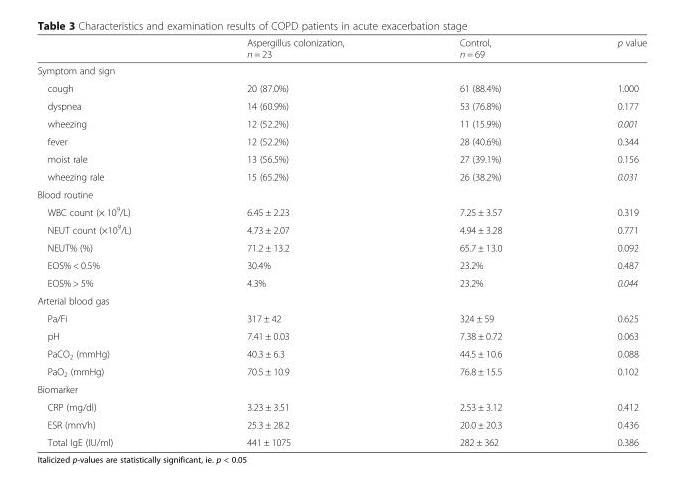table: (36, 36, 646, 447)
table column: (188, 36, 401, 447), (401, 36, 558, 447), (36, 36, 188, 447), (558, 36, 646, 447)
table column header: (36, 36, 646, 61)
table projected row header: (36, 61, 646, 79), (36, 291, 646, 309), (36, 185, 646, 202), (36, 380, 646, 397)
table row: (36, 36, 646, 61), (36, 219, 646, 238), (36, 61, 646, 79), (36, 96, 646, 114), (36, 114, 646, 132), (36, 149, 646, 167), (36, 167, 646, 185), (36, 238, 646, 256), (36, 273, 646, 291), (36, 291, 646, 309), (36, 326, 646, 344), (36, 344, 646, 362), (36, 362, 646, 380), (36, 397, 646, 415), (36, 415, 646, 433), (36, 79, 646, 96), (36, 132, 646, 149), (36, 185, 646, 202), (36, 202, 646, 219), (36, 256, 646, 273), (36, 309, 646, 326), (36, 380, 646, 397), (36, 433, 646, 447)
